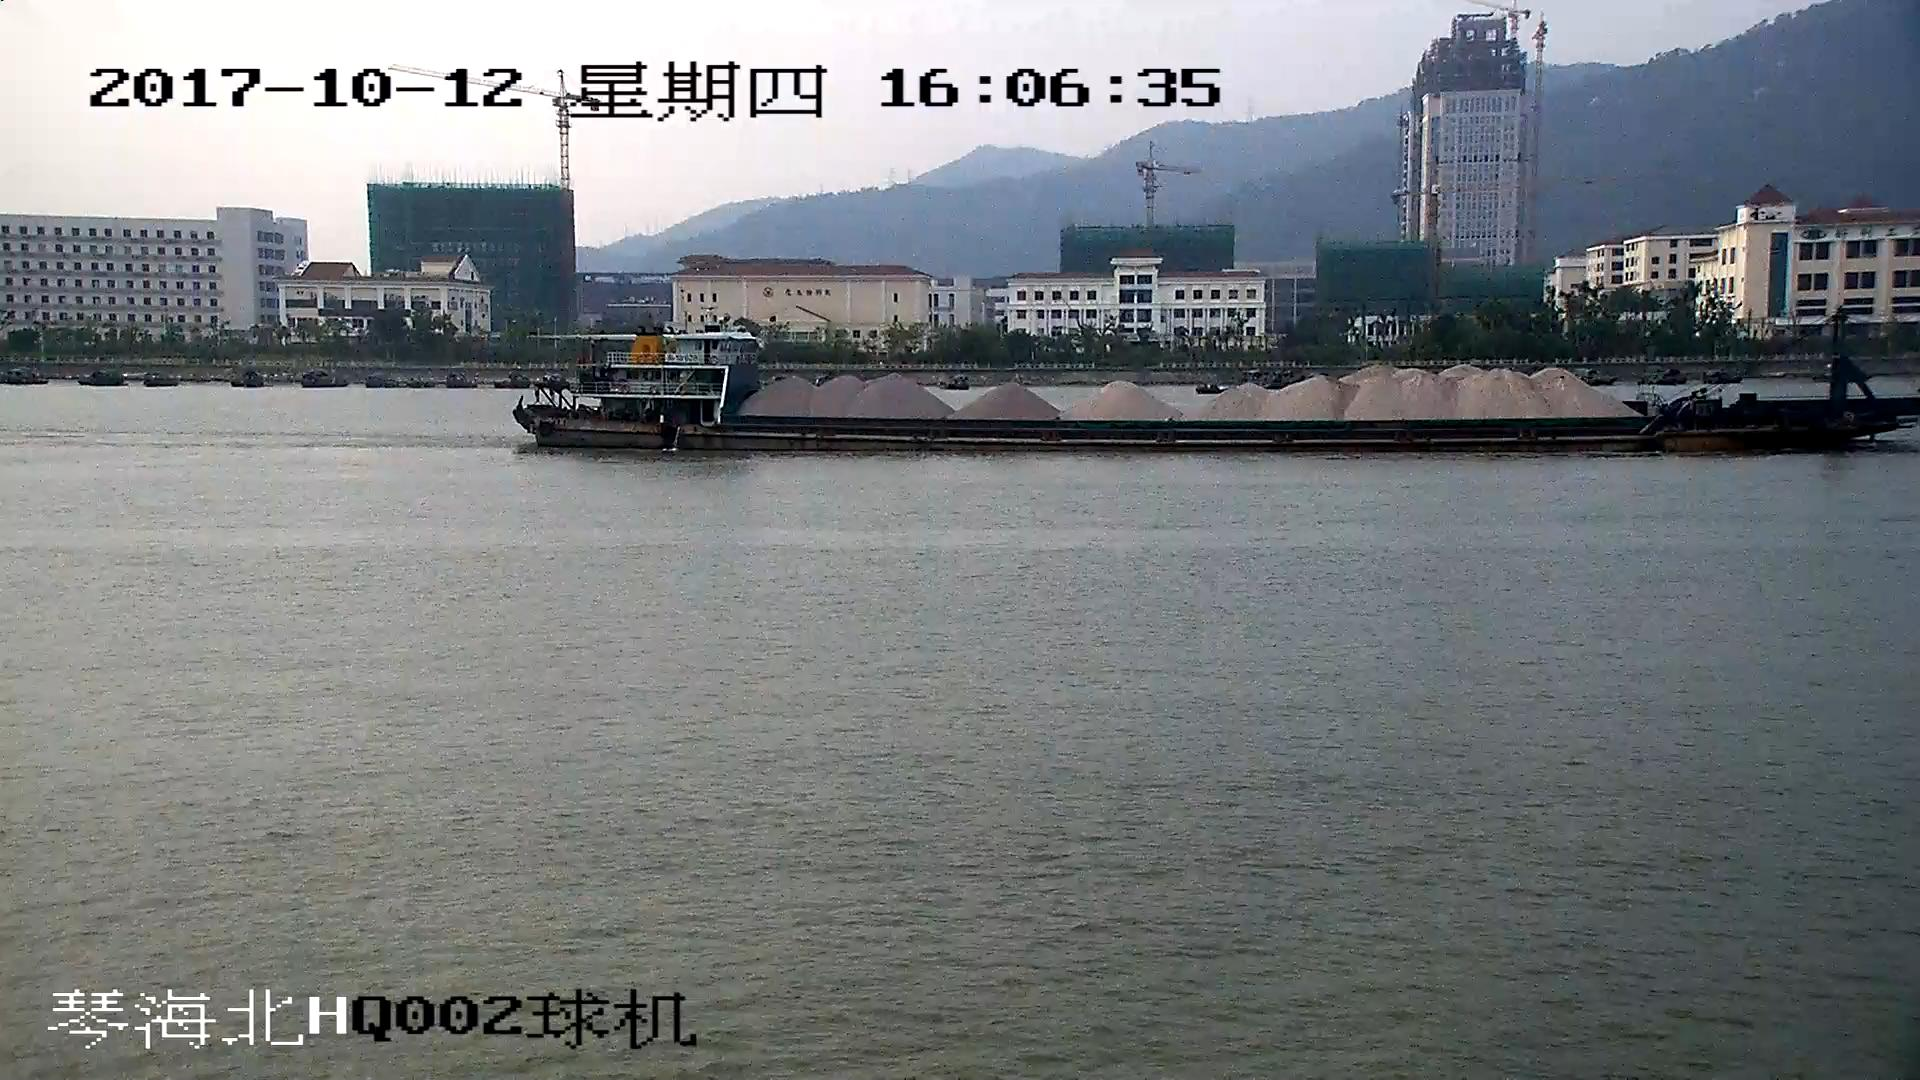ore carrier: (518, 329, 1920, 457)
